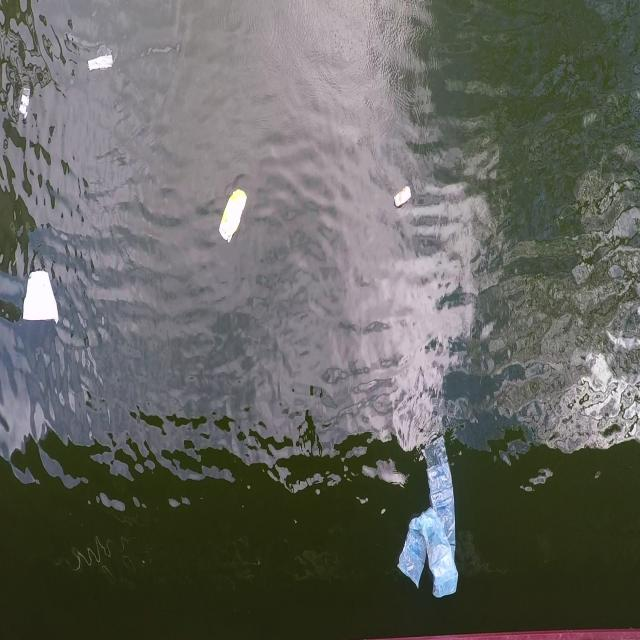Autre plastique: (15, 261, 63, 336), (11, 84, 34, 124)
Non plastique: (388, 183, 414, 212)
Sac plastique: (394, 430, 468, 608)
